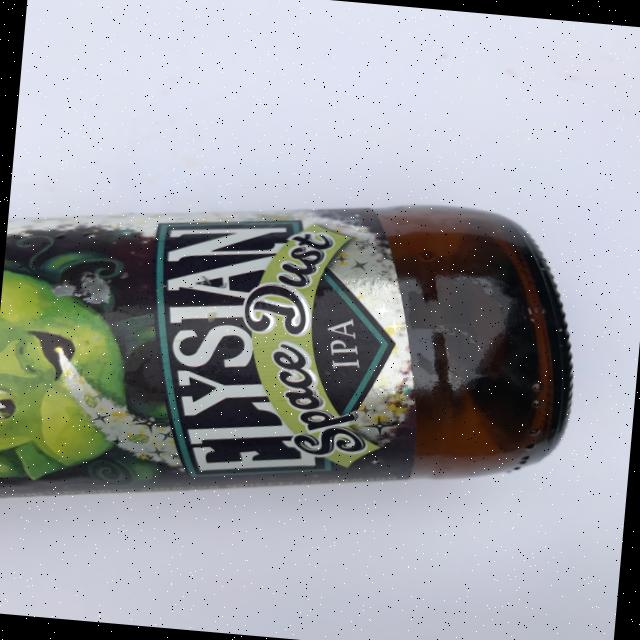glass: (0, 166, 588, 549)
